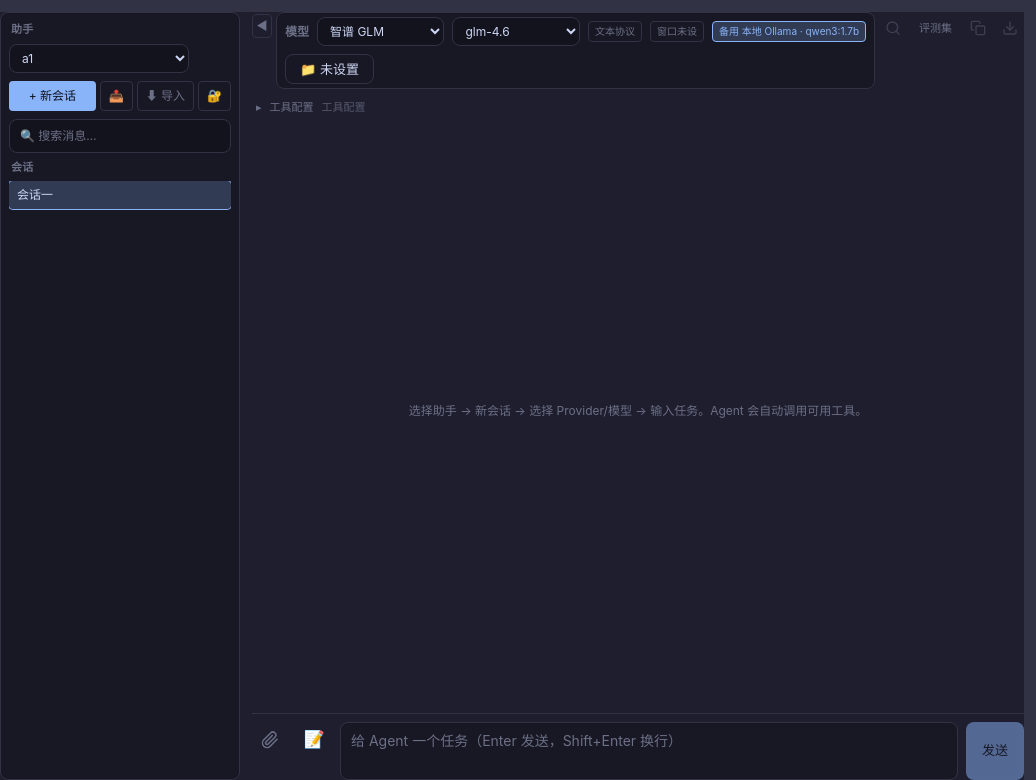
it: 设与清：实参照写、拒绝照说 › 清除那一发带的是 null（不是空对象，也不是漏参数）
Click the button with test id "agent-fallback-badge".
click(789, 32)  # box [712,21,866,42]
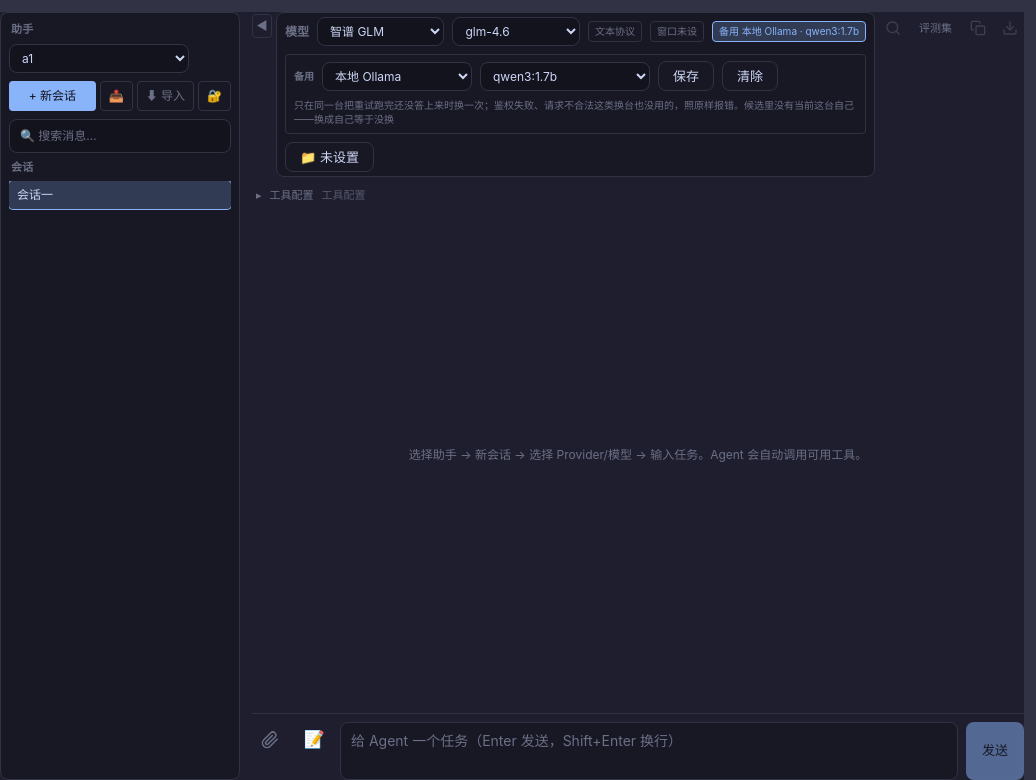
Click the button with test id "agent-fallback-clear".
click(750, 76)  # box [722,61,778,91]
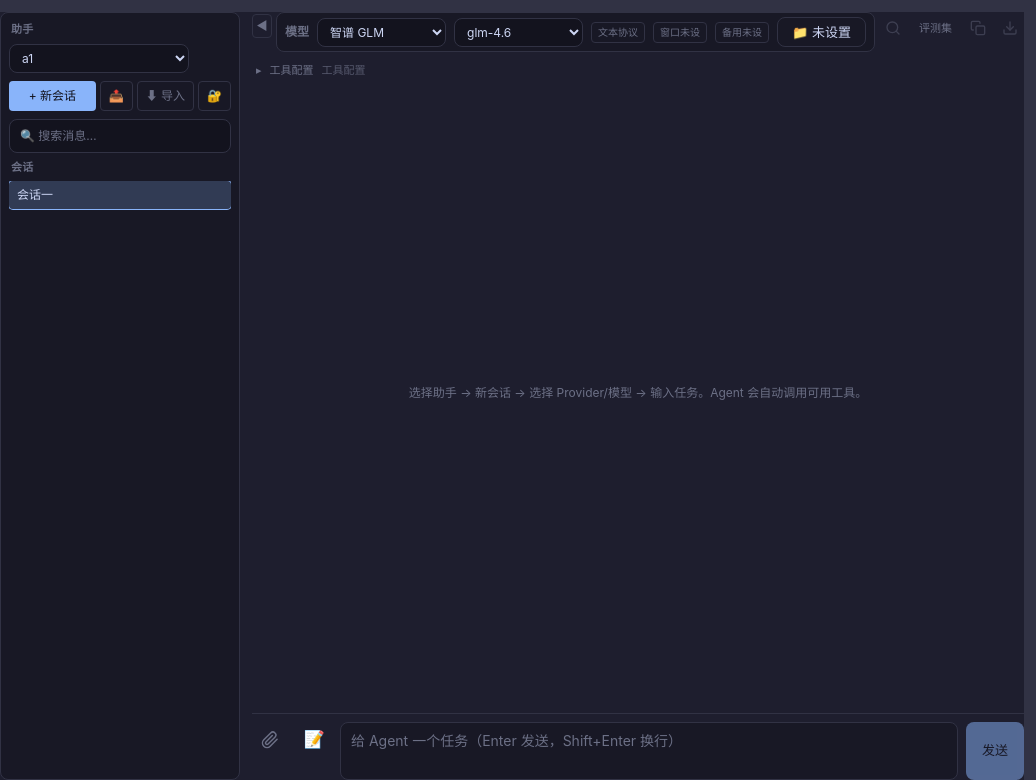
Check: the button with test id "agent-fallback-badge" reads "备用未设", box [715,22,769,42]
